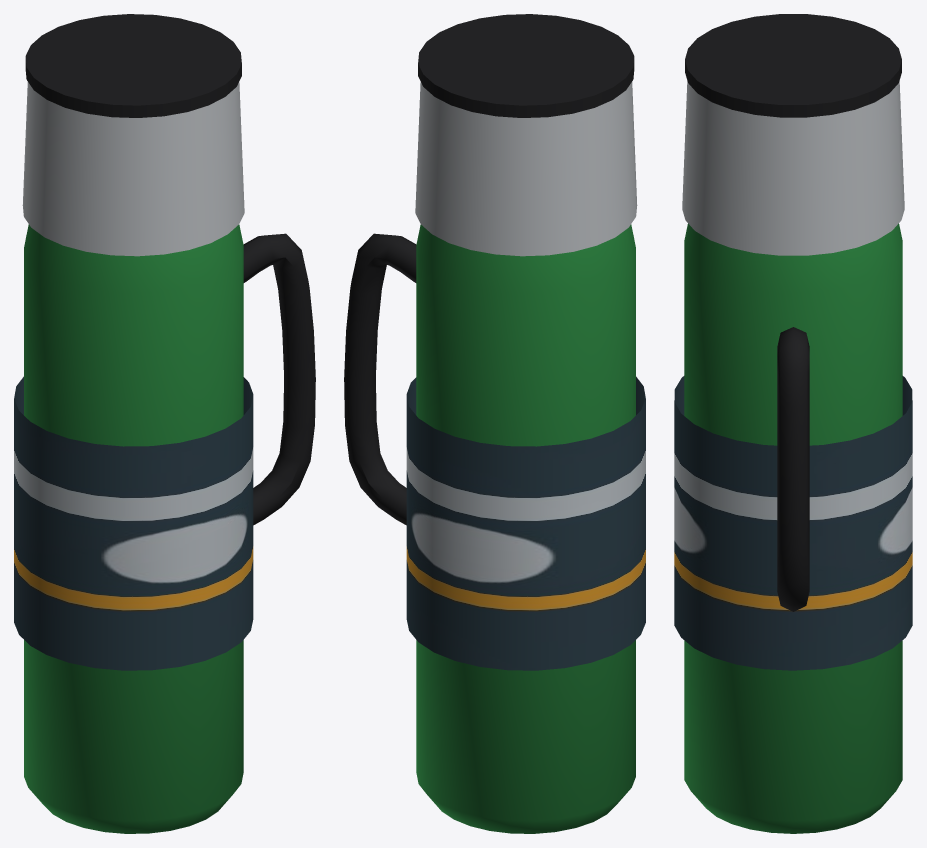
Rendered from bottle_thermos_vacuum_flask.glb.
The picture shows the model from 3 angles, left to right: view 1: azimuth 30°, elevation 25°; view 2: azimuth 150°, elevation 25°; view 3: azimuth 270°, elevation 25°; orthographic projection.
Parts seen in each view (by area): view 1: bottle_thermos_vacuum_flask; view 2: bottle_thermos_vacuum_flask; view 3: bottle_thermos_vacuum_flask.
Part boxes in pixels (box(x1,y1,x2,y2)): bottle_thermos_vacuum_flask: box(14, 14, 315, 833); bottle_thermos_vacuum_flask: box(344, 14, 645, 833); bottle_thermos_vacuum_flask: box(674, 14, 912, 833).
Bounding box in the file's own units: 0.1197 × 0.295 × 0.0866.
Materials: 4 (1 with a texture image).
